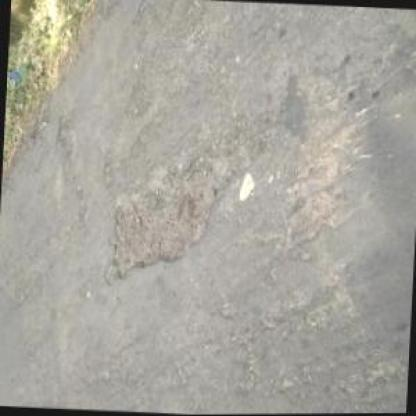pothole: (101, 138, 230, 288), (54, 111, 76, 148)
